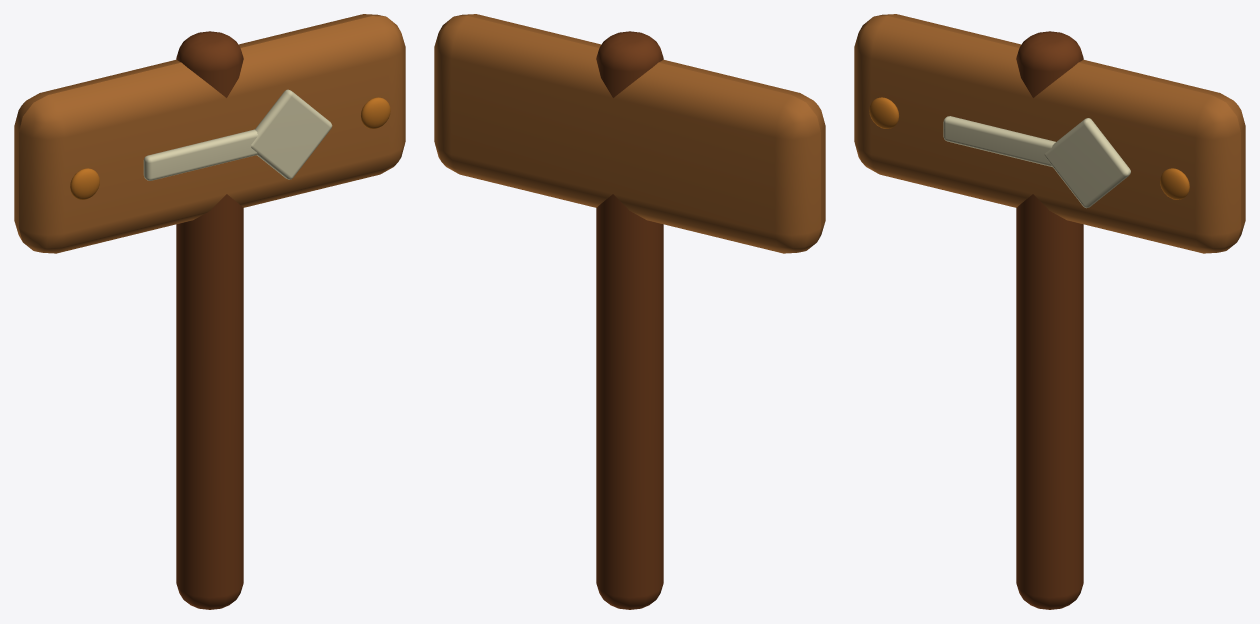
Rendered from signpost.glb.
3 views of the same model, side by side, from view 1: azimuth 30°, elevation 25°; view 2: azimuth 150°, elevation 25°; view 3: azimuth 330°, elevation 25° (orthographic).
Parts seen in each view (by area): view 1: signboard, signpost_post, sign_arrow_tip, sign_arrow_shaft, sign_rivet.001, sign_rivet; view 2: signboard, signpost_post; view 3: signboard, signpost_post, sign_arrow_tip, sign_arrow_shaft, sign_rivet, sign_rivet.001.
Part boxes in pixels (<box>): signboard: <box>14,14,405,253</box>; signpost_post: <box>176,31,243,609</box>; sign_arrow_tip: <box>251,89,332,179</box>; sign_arrow_shaft: <box>143,129,257,180</box>; sign_rivet.001: <box>360,97,390,128</box>; sign_rivet: <box>70,168,99,199</box>; signboard: <box>434,14,825,253</box>; signpost_post: <box>596,31,663,609</box>; signboard: <box>854,14,1245,253</box>; signpost_post: <box>1016,31,1083,609</box>; sign_arrow_tip: <box>1044,118,1130,208</box>; sign_arrow_shaft: <box>943,116,1055,166</box>; sign_rivet: <box>869,97,899,128</box>; sign_rivet.001: <box>1160,168,1189,199</box>.
Bounding box in the file's own units: 0.92 × 1.3 × 0.17.
